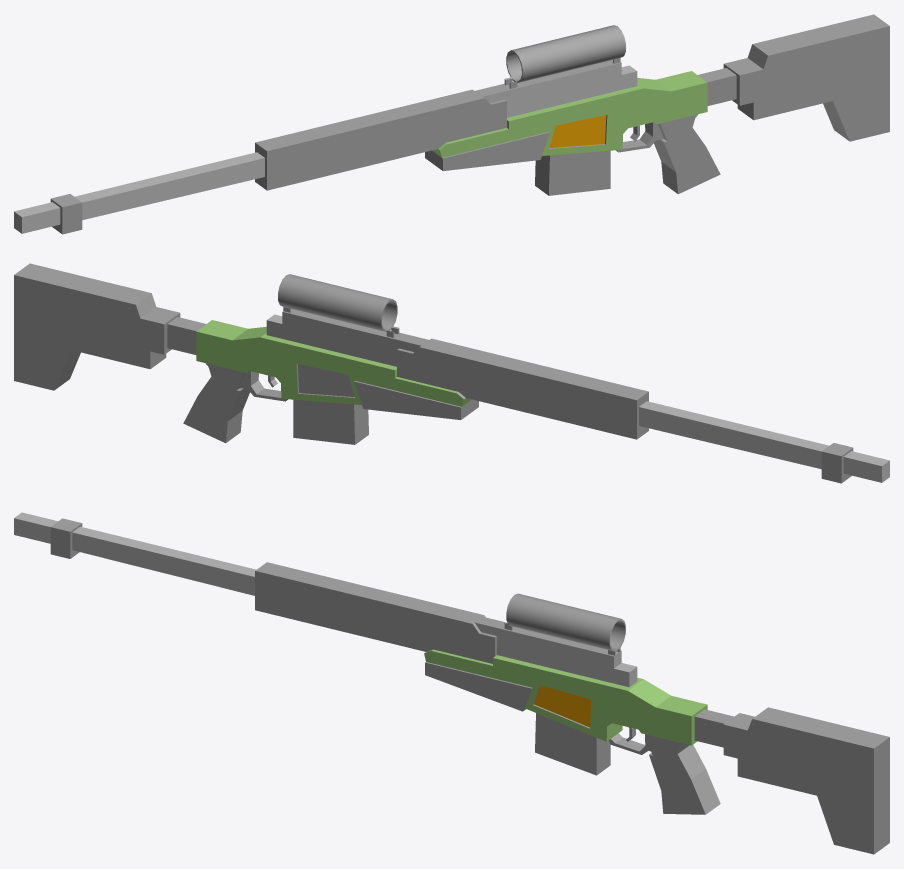
The model's file is Sniper Rifle.fbx.
3 views of the same model, one above another, from view 1: azimuth 30°, elevation 25°; view 2: azimuth 150°, elevation 25°; view 3: azimuth 330°, elevation 25° (orthographic).
Parts seen in each view (by area): view 1: Sniper Rifle; view 2: Sniper Rifle; view 3: Sniper Rifle.
Part boxes in pixels (left/top/right/bottom): Sniper Rifle: left=14, top=14, right=889, bottom=234; Sniper Rifle: left=14, top=263, right=889, bottom=483; Sniper Rifle: left=14, top=512, right=889, bottom=854.
Bounding box in the file's own units: 1254 × 244 × 45.
